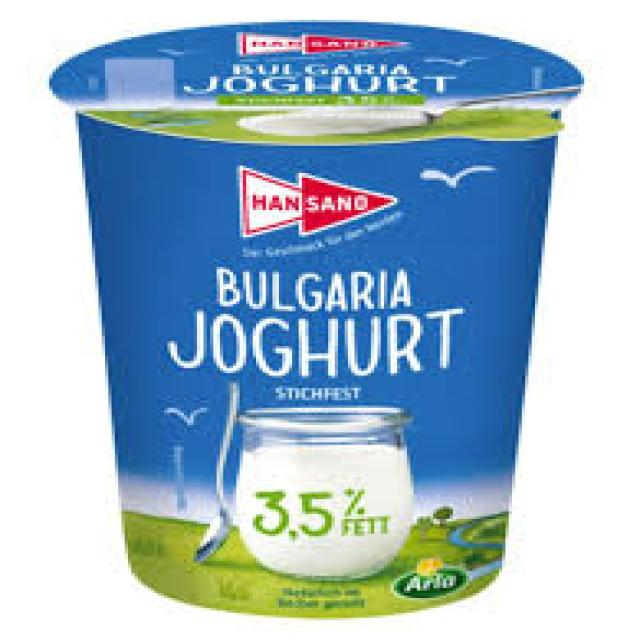plastic: (49, 22, 581, 618)
